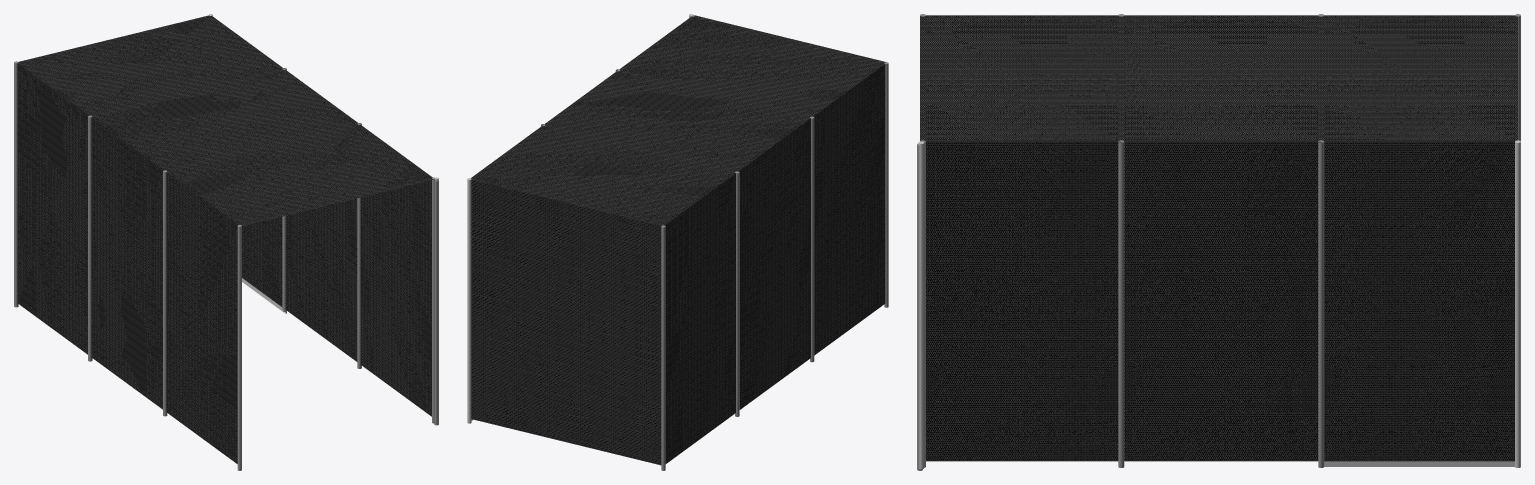
File: Bateo_Jaula.obj
The picture shows the model from 3 angles, left to right: view 1: azimuth 30°, elevation 25°; view 2: azimuth 150°, elevation 25°; view 3: azimuth 270°, elevation 25°; orthographic projection. The views are drawn at different scales.
Visible parts, largest first — view 1: Object026, Object024, Object, Object006, Object014, Object002, Object008, Object018, Object022; view 2: Object026, Object010, Object002, Object014, Object024, Object006; view 3: Object026, Object010, Object018, Object016, Object004, Object, Object008.
Part boxes in pixels (box(x1,y1,x2,y2)): Object026: box(17, 15, 433, 463); Object024: box(237, 225, 241, 470); Object: box(434, 180, 438, 425); Object006: box(88, 115, 92, 361); Object014: box(163, 170, 167, 416); Object002: box(14, 61, 18, 307); Object008: box(432, 177, 435, 419); Object018: box(357, 123, 361, 368); Object022: box(15, 62, 16, 307); Object026: box(471, 15, 886, 465); Object010: box(467, 178, 472, 423); Object002: box(661, 225, 665, 470); Object014: box(810, 116, 814, 362); Object024: box(884, 62, 888, 307); Object006: box(735, 171, 739, 416); Object026: box(920, 15, 1517, 461); Object010: box(1324, 140, 1520, 467); Object018: box(1118, 140, 1124, 467); Object016: box(1318, 140, 1324, 467); Object004: box(918, 141, 924, 469); Object: box(917, 143, 919, 465); Object008: box(920, 140, 925, 467).
Size of the model in its own units: 18.35 by 21.52 by 36.
